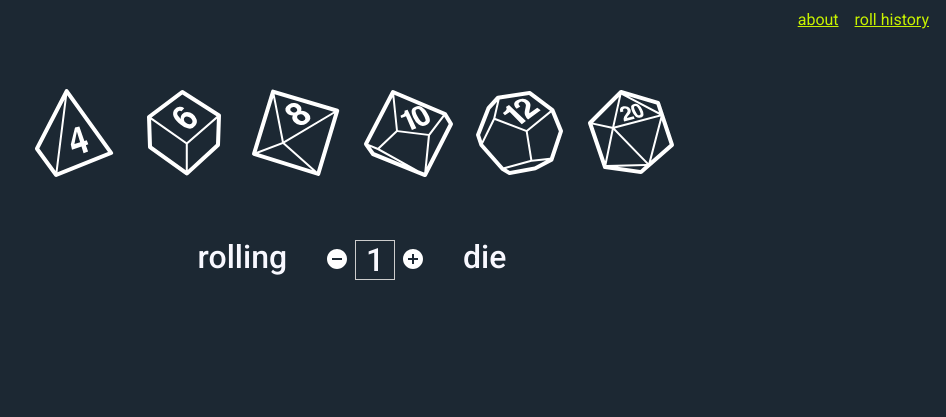
Test: <Roller /> › rolls a selected die and displays the result
Expected: the text "3" is not shown
Click the 1st button with alt text "d4" at (72, 136), box [16,82,128,191]
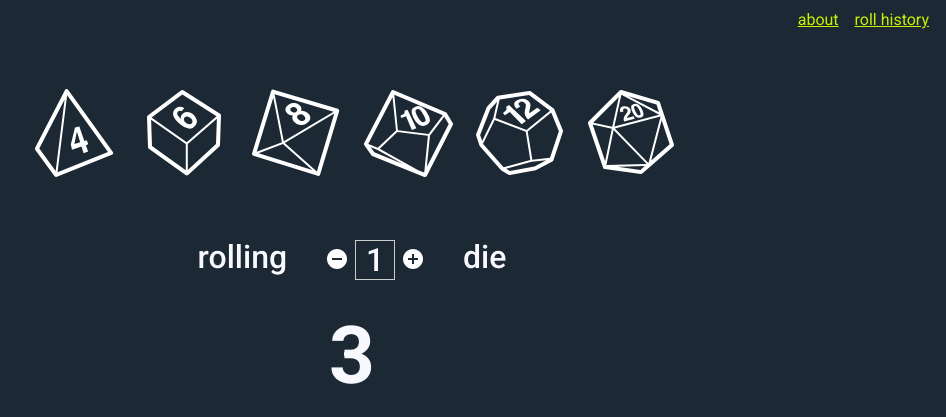
Result: the heading "3" is shown at [329,312,375,400]
